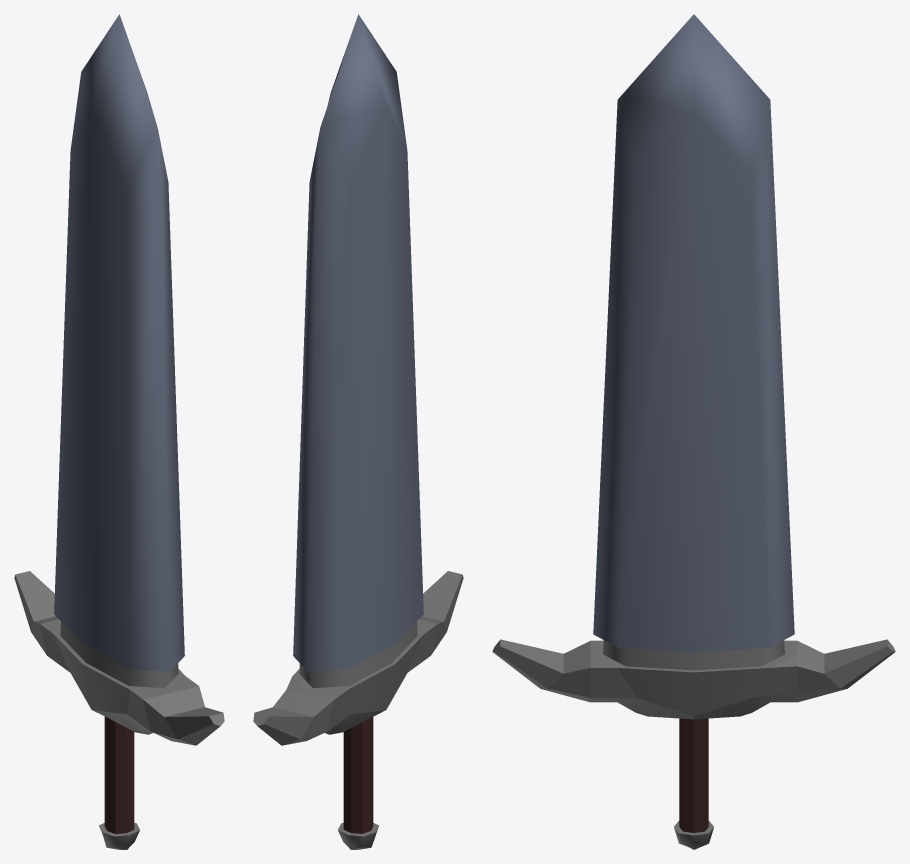
Rendered from BasicGreatSword.fbx.
3 renders of one model, left to right at view 1: azimuth 30°, elevation 25°; view 2: azimuth 150°, elevation 25°; view 3: azimuth 270°, elevation 25°, orthographic.
Parts seen in each view (by area): view 1: Basic_Great_Sword; view 2: Basic_Great_Sword; view 3: Basic_Great_Sword.
Boxes of the visible parts, x1,y1,x2,y2 form: Basic_Great_Sword: [14, 14, 224, 849]; Basic_Great_Sword: [253, 14, 463, 849]; Basic_Great_Sword: [492, 14, 895, 849].
Size of the model in its own units: 0.4212 by 4.52 by 1.98.
